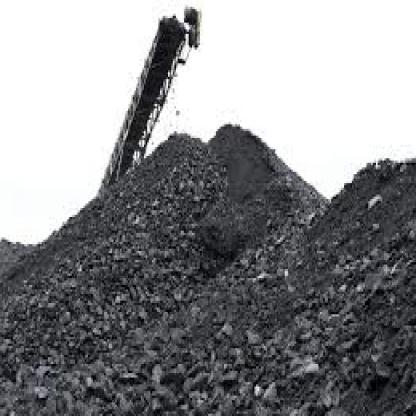Sedimentary_coal: (286, 353, 322, 380), (368, 186, 386, 212), (154, 382, 176, 403), (325, 402, 350, 414), (37, 380, 48, 402)
